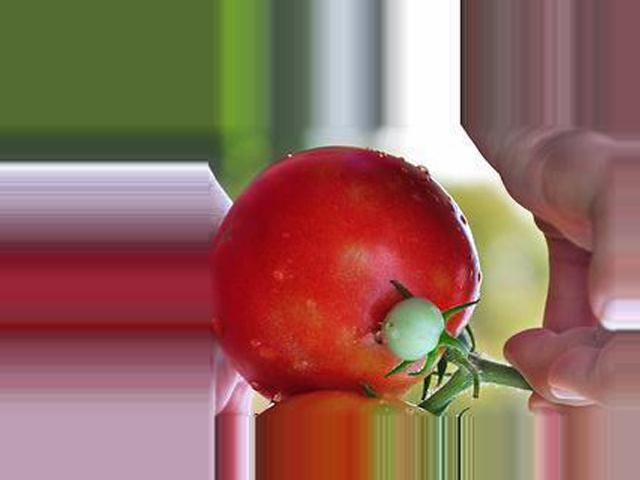tomato: (206, 147, 480, 400)
